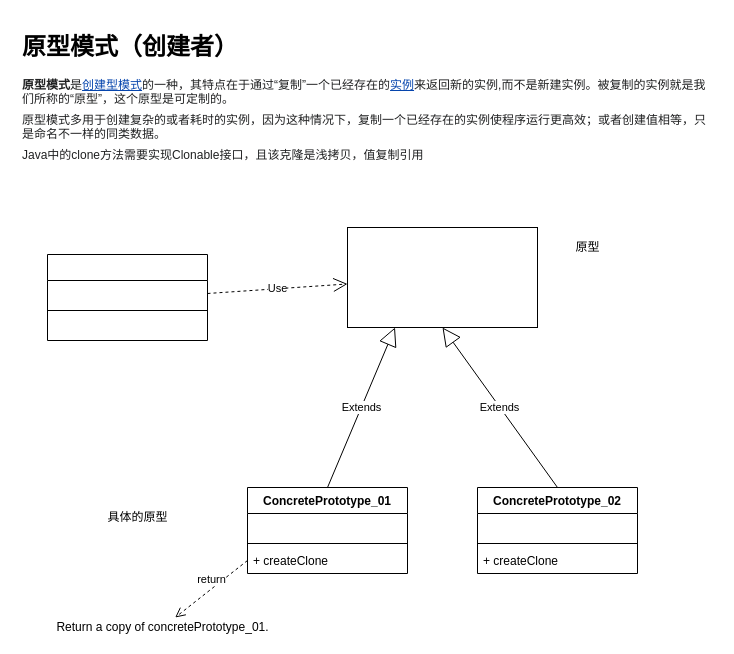
This 734x654 diagram has some shape labels left out. Here are the shapes that lost their labels. From the top down, the centre of each, then its label:
[127,297]: Client
[442,277]: <<Interface>> Prototype + createClone()
